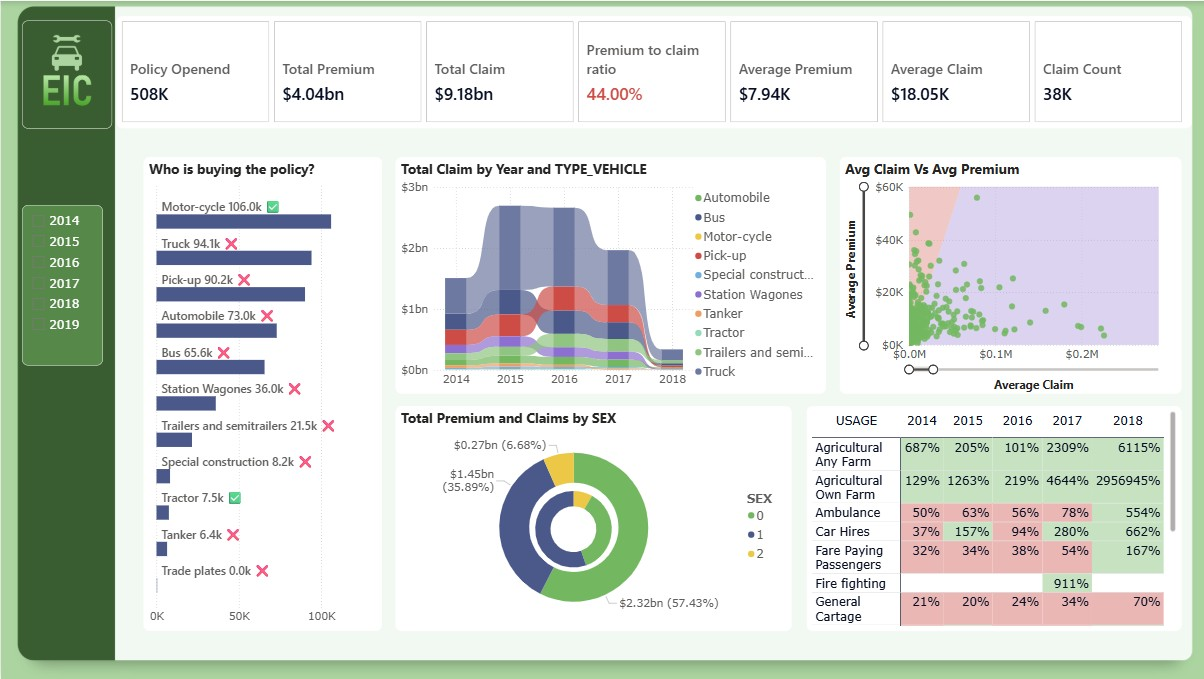

What the dashboard file says about the page in this screenshot:
{"tool":"powerbi","page":{"name":"Insurance Analysis","canvas":[1920,1080],"ordinal":0},"visuals":[{"type":"cardVisual","fields":{"Data":["policies.Policy Openend","policies.Total Premium","policies.Total Claim","policies.Premium to clain ratio","policies.Average PErmium","policies.Average Claim2","policies.claim Count"]},"box":[183.7,23.9,1710.7,178.9],"z":0},{"type":"slicer","fields":{"Values":["calendar.Year"]},"box":[33.4,324.5,128.8,255.3],"z":1000},{"type":"clusteredBarChart","title":"Who is buying the policy?","fields":{"Category":["policies.TYPE_VEHICLE"],"Y":["policies.Dummy Series","policies.Policy Openend"]},"box":[226.7,248.1,379.4,753.9],"z":2000},{"type":"ribbonChart","fields":{"Category":["calendar.Year"],"Series":["policies.TYPE_VEHICLE"],"Y":["policies.Total Claim"]},"box":[627.5,248.1,684.8,377],"z":3000},{"type":"donutChart","title":"Total Premium and Claims by SEX","fields":{"Y":["policies.Total Premium"],"Category":["policies.SEX"]},"box":[627.5,644.2,629.9,357.9],"z":4000},{"type":"donutChart","fields":{"Category":["policies.SEX"],"Y":["policies.Total Claim"]},"box":[804.1,758.7,212.3,162.2],"z":5000},{"type":"image","box":[33.4,31,143.2,171.8],"z":6000},{"type":"scatterChart","title":"Avg Claim Vs Avg Premium","fields":{"X":["policies.Average Claim2"],"Y":["policies.Average PErmium"],"Category":["policies.TYPE_VEHICLE","policies.MAKE"]},"box":[1333.7,248.1,544,377],"z":7000},{"type":"pivotTable","fields":{"Rows":["policies.USAGE"],"Columns":["calendar.Year"],"Values":["policies.Premium to claim ratio"]},"box":[1281.2,644.2,596.5,357.9],"z":8000}]}

Visuals, with their boxes in screenshot pixels (x1, y1, x2, y2), scaled from the page's 1920x1080 canvas onto the 1204x679 screenshot:
cardVisual - policies.Policy Openend x policies.Total Premium: 115,15,1188,128
slicer - calendar.Year: 21,204,102,365
"Who is buying the policy?" clusteredBarChart: 142,156,380,630
ribbonChart - calendar.Year x policies.TYPE_VEHICLE: 393,156,823,393
"Total Premium and Claims by SEX" donutChart: 393,405,788,630
donutChart - policies.SEX x policies.Total Claim: 504,477,637,579
image: 21,19,111,128
"Avg Claim Vs Avg Premium" scatterChart: 836,156,1177,393
pivotTable - policies.USAGE x calendar.Year: 803,405,1177,630
